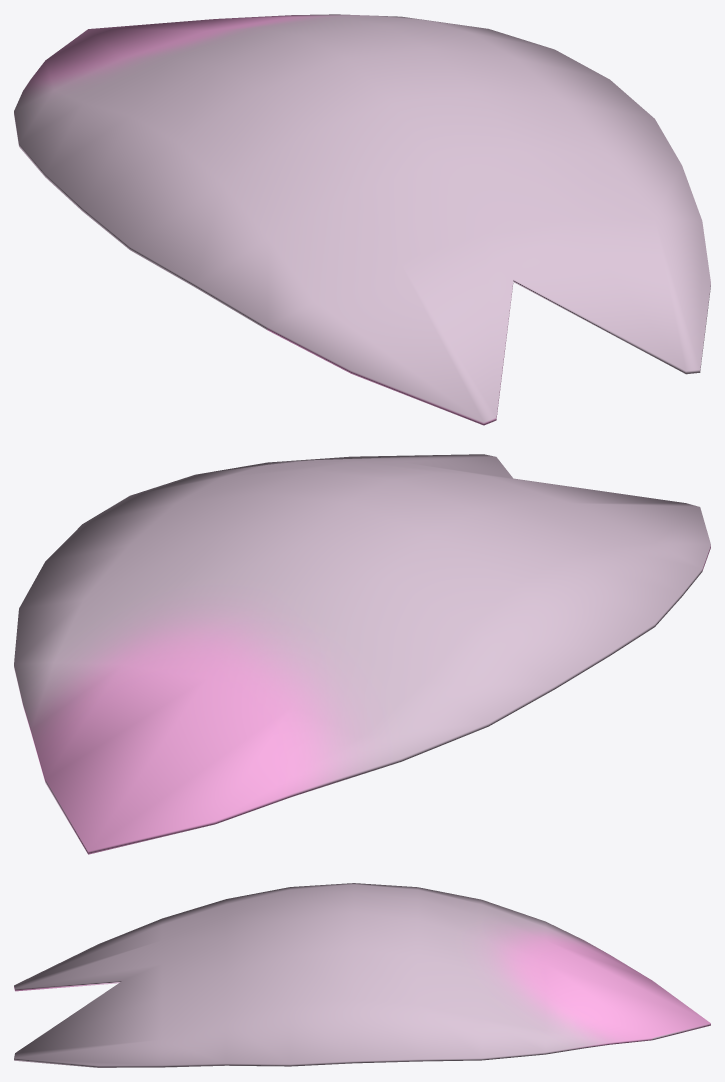
Rendered from hanabira.glb.
The picture shows the model from 3 angles, top to bottom: view 1: azimuth 30°, elevation 25°; view 2: azimuth 150°, elevation 25°; view 3: azimuth 270°, elevation 25°; orthographic projection. The views are drawn at different scales.
Parts seen in each view (by area): view 1: Cherry blossom petals; view 2: Cherry blossom petals; view 3: Cherry blossom petals.
Part boxes in pixels (x1,y1,x2,y2): Cherry blossom petals: (14,14,710,425); Cherry blossom petals: (14,454,710,854); Cherry blossom petals: (14,883,710,1067).
Size of the model in its own units: 1.69 by 0.4979 by 2.79.
1 material, 1 textured.
